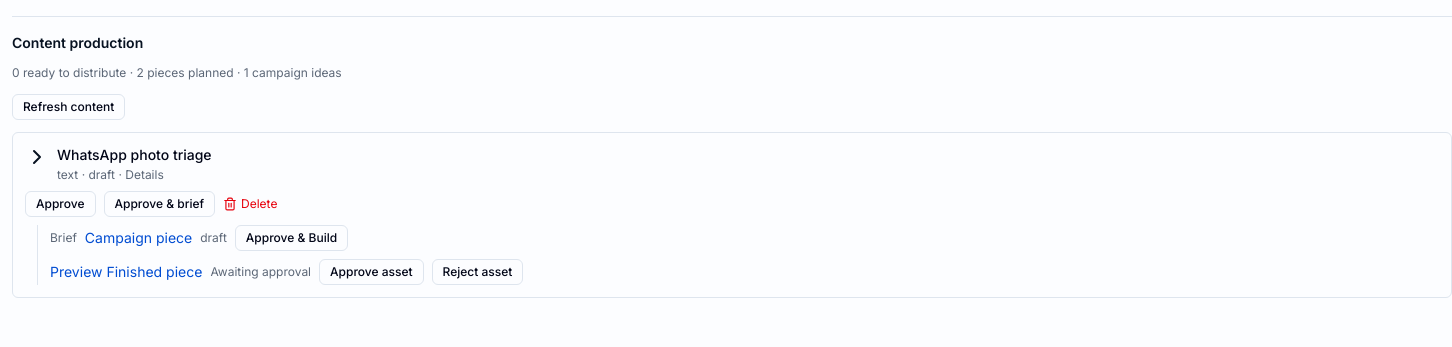
it: deleting a campaign content idea › surfaces a permission refusal from the RPC
Click the button with aria-label "Delete WhatsApp photo triage" at coordinates (250, 204), box x1=223 y1=196 x2=277 y2=212
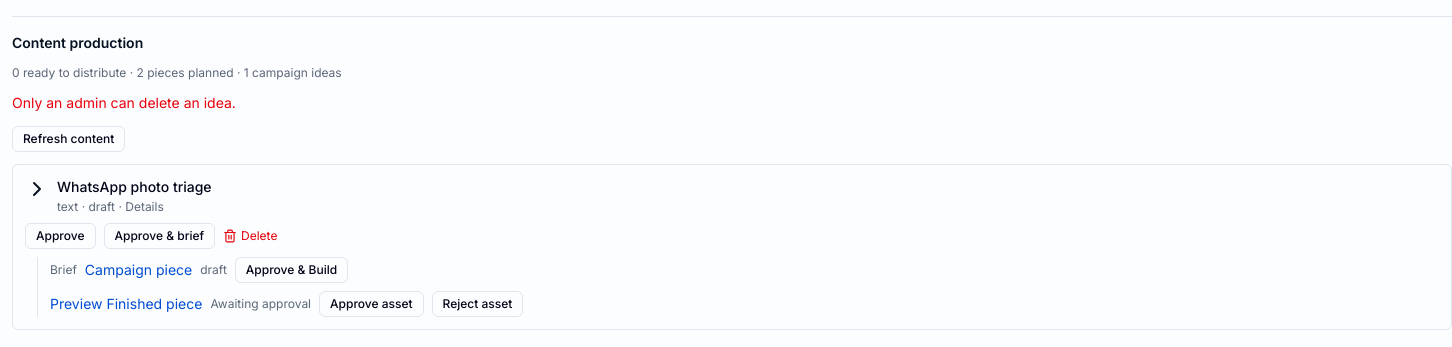
expect the message shows "Only an admin can delete an idea": met, box x1=12 y1=94 x2=236 y2=111
